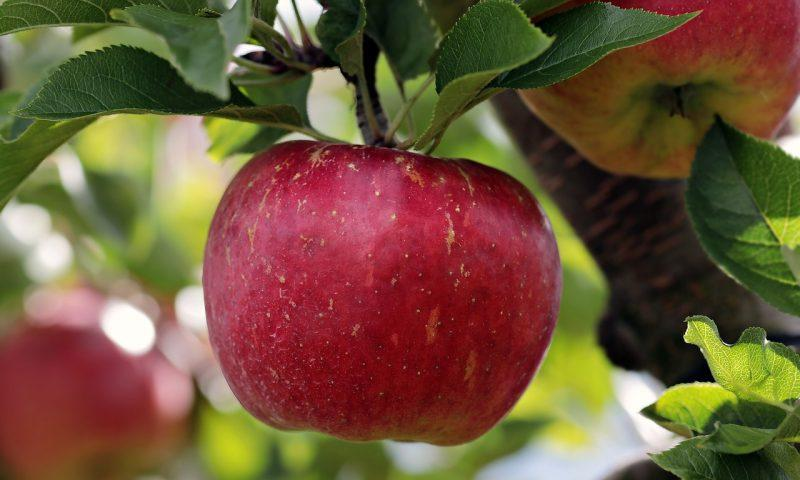apple: (202, 137, 565, 444), (516, 3, 796, 180)
